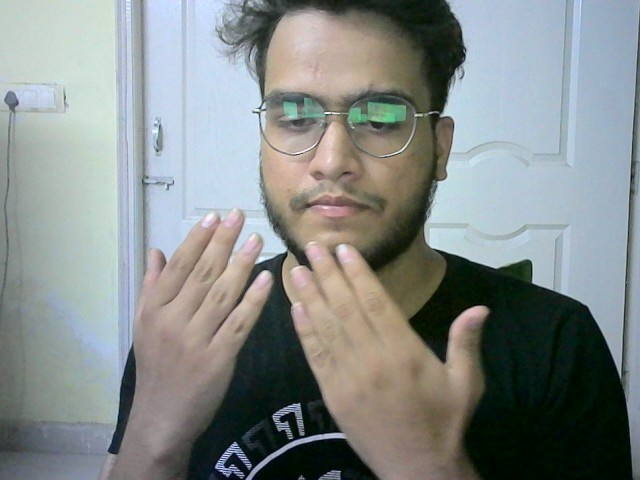Thank You: (117, 208, 511, 444)
